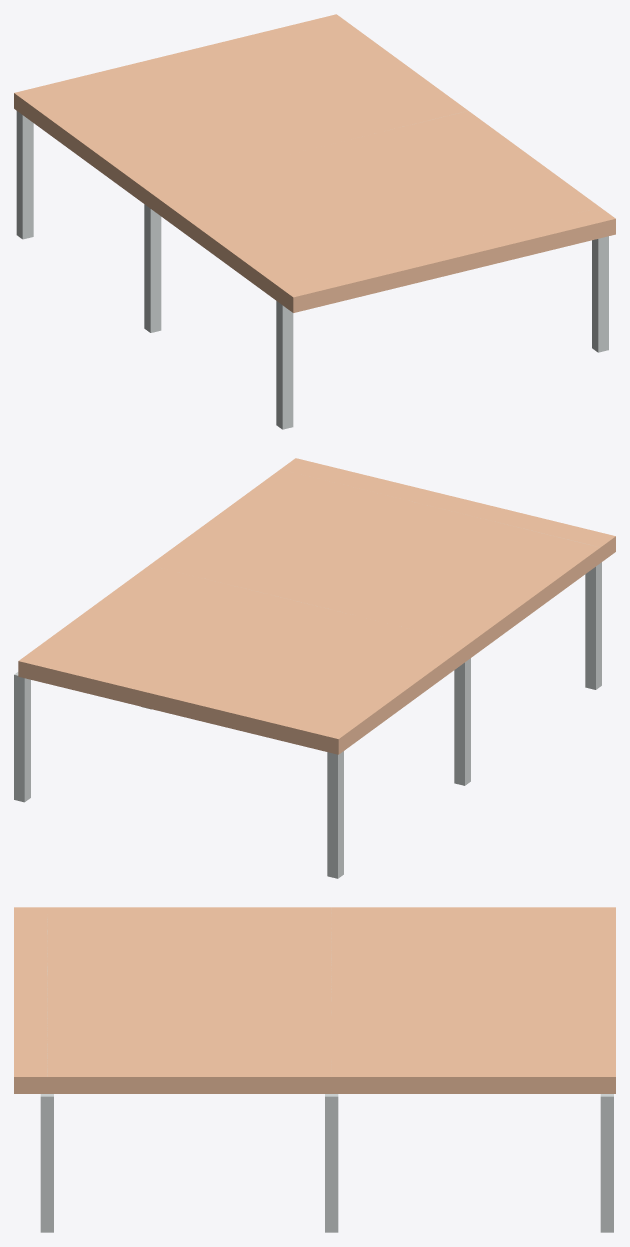
The model's file is desk-row-d1.glb.
3 views of the same model, one above another, from view 1: azimuth 30°, elevation 25°; view 2: azimuth 150°, elevation 25°; view 3: azimuth 270°, elevation 25° (orthographic). The views are drawn at different scales.
Visible parts, largest first — view 1: desktop, shared-corner-leg (×4); view 2: desktop, shared-corner-leg (×4); view 3: desktop, shared-corner-leg (×3).
Boxes of the visible parts, x1=… form: desktop: x1=14, y1=14, x2=615, y2=312; shared-corner-leg (×4): x1=16, y1=111, x2=608, y2=429; desktop: x1=18, y1=458, x2=615, y2=754; shared-corner-leg (×4): x1=14, y1=562, x2=601, y2=878; desktop: x1=14, y1=907, x2=615, y2=1093; shared-corner-leg (×3): x1=40, y1=1094, x2=613, y2=1232.
Size of the model in its own units: 3.05 by 1.26 by 4.5.
Materials: 1 (1 with a texture image).
